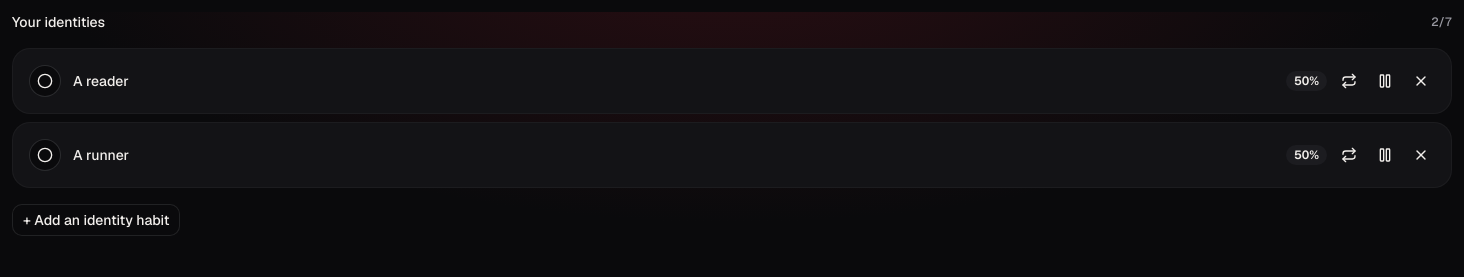
Test case: HabitList votes (PERF-2) › a rejected vote reverts only that habit and shows the server's message
Click the button named "Vote for this identity today" next to "A reader" at [45, 81], box [29,65,61,97]
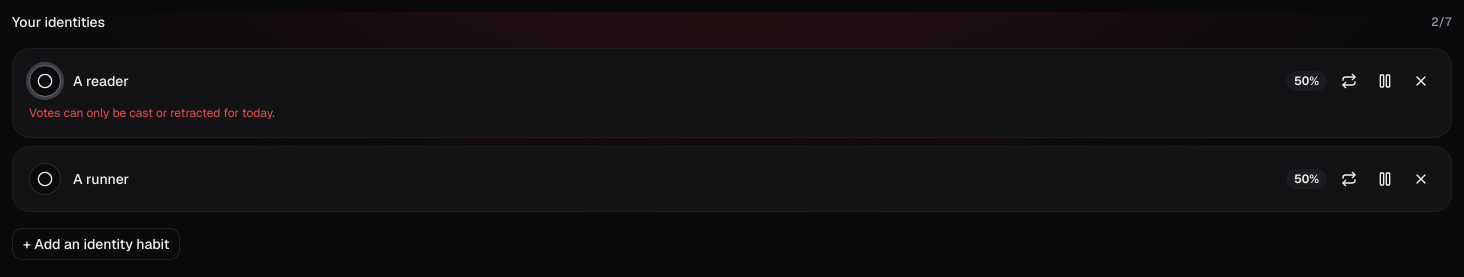
Expected: the number of buttons named "Vote for this identity today" is 2, [29,65,61,97]; [29,163,61,195]
Expected: the text "Votes can only be cast or retracted for today." is shown, [29,105,275,121]
